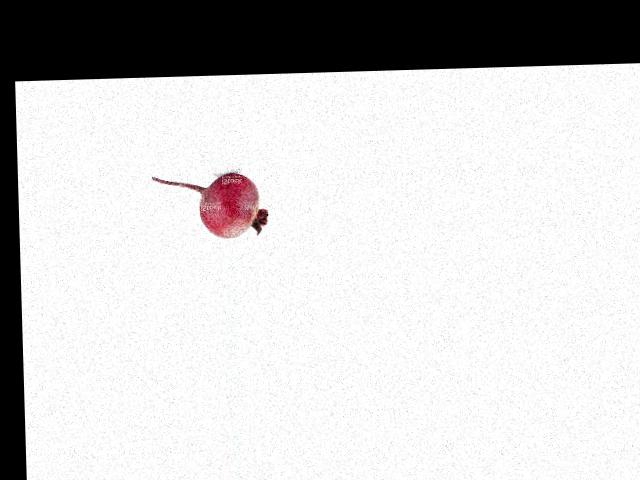beet: (152, 171, 269, 239)
